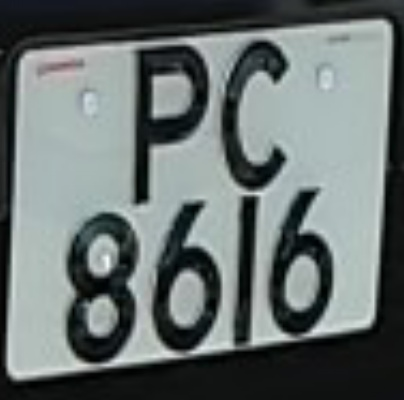1: (221, 185, 274, 352)
6: (142, 196, 231, 359), (262, 180, 346, 342)
8: (43, 200, 152, 371)
C: (207, 26, 306, 197)
P: (116, 33, 216, 209)
